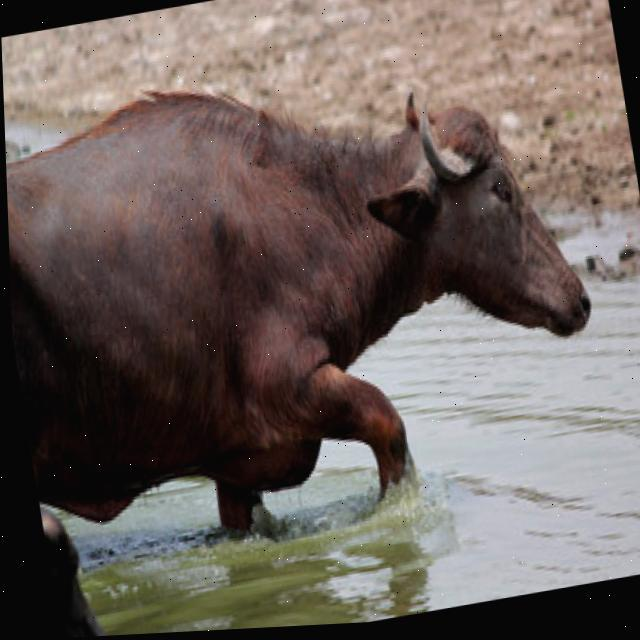Buffalo: (2, 20, 618, 571)
